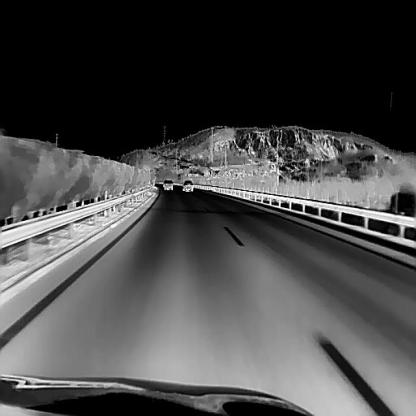car: (182, 179, 192, 191), (163, 178, 172, 189)
